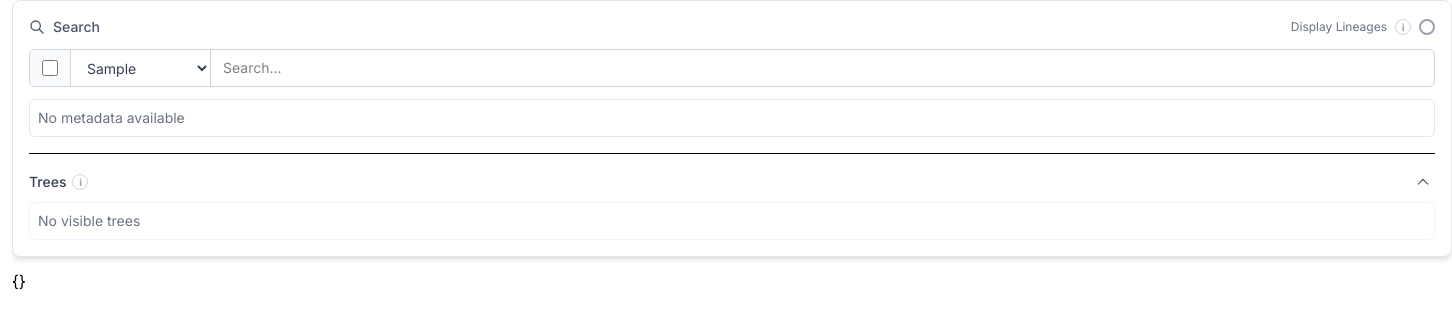
Test: InfoFilter metadata dropdown › renders source groups while keeping bare metadata keys as option values
This screenshot has width=1452, height=331.
Select "Region" in the dropdown at (141, 68), box top-left (71, 50), bottom-right (211, 86)
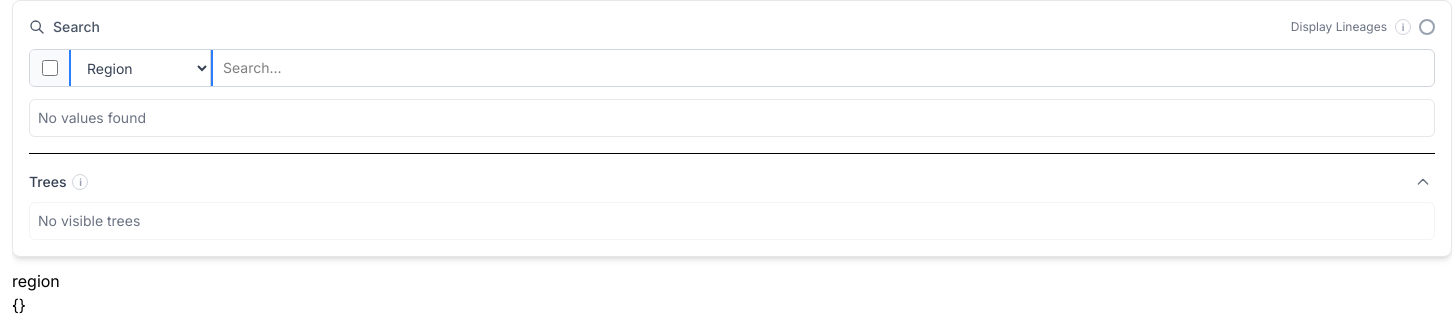
Expected: the text with test id "selectedColorBy" reads "region", top-left (12, 271), bottom-right (60, 291)
